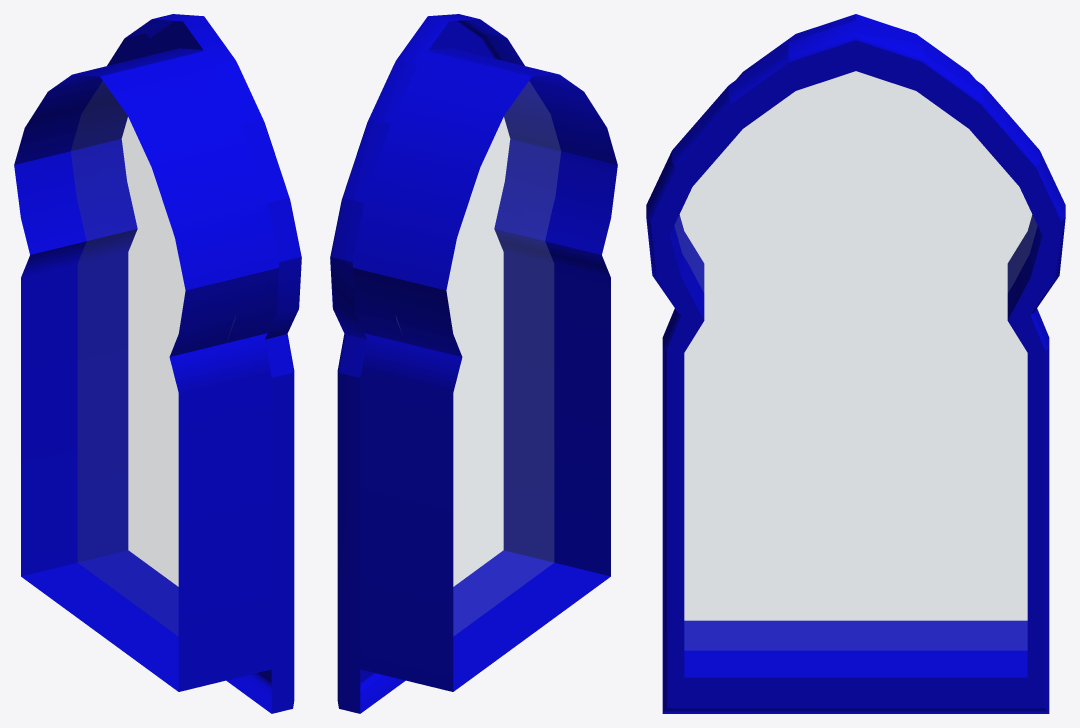
Rendered from Dom_znati_mozaicnoe_okno_bolw.fbx.
The picture shows the model from 3 angles, left to right: view 1: azimuth 30°, elevation 25°; view 2: azimuth 150°, elevation 25°; view 3: azimuth 270°, elevation 25°; orthographic projection. The views are drawn at different scales.
Visible parts, largest first — view 1: Dom_znati_mozaicnoe_okno_bolw; view 2: Dom_znati_mozaicnoe_okno_bolw; view 3: Dom_znati_mozaicnoe_okno_bolw.
Part boxes in pixels (<box>): Dom_znati_mozaicnoe_okno_bolw: <box>14,14,301,713</box>; Dom_znati_mozaicnoe_okno_bolw: <box>330,14,617,713</box>; Dom_znati_mozaicnoe_okno_bolw: <box>646,14,1065,713</box>.
Size of the model in its own units: 2.24 by 12.47 by 6.95.
